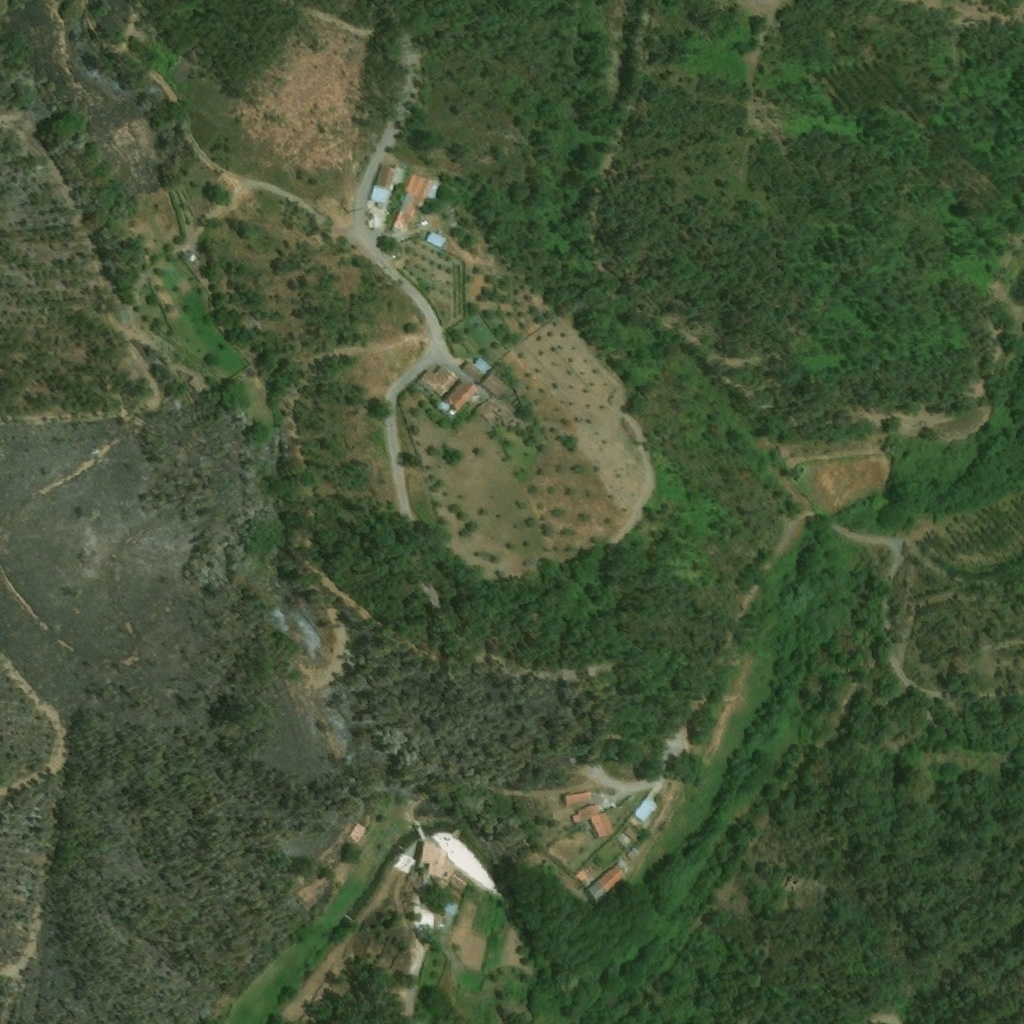0 no-damage: (414, 840, 472, 895), (419, 363, 476, 409), (391, 175, 439, 229), (461, 357, 511, 398), (586, 865, 625, 904), (570, 804, 614, 837), (368, 165, 404, 205), (631, 795, 658, 823), (442, 888, 462, 917), (564, 790, 591, 804), (348, 823, 367, 842), (475, 401, 495, 419), (425, 233, 445, 248), (625, 847, 638, 860), (187, 254, 196, 263)
